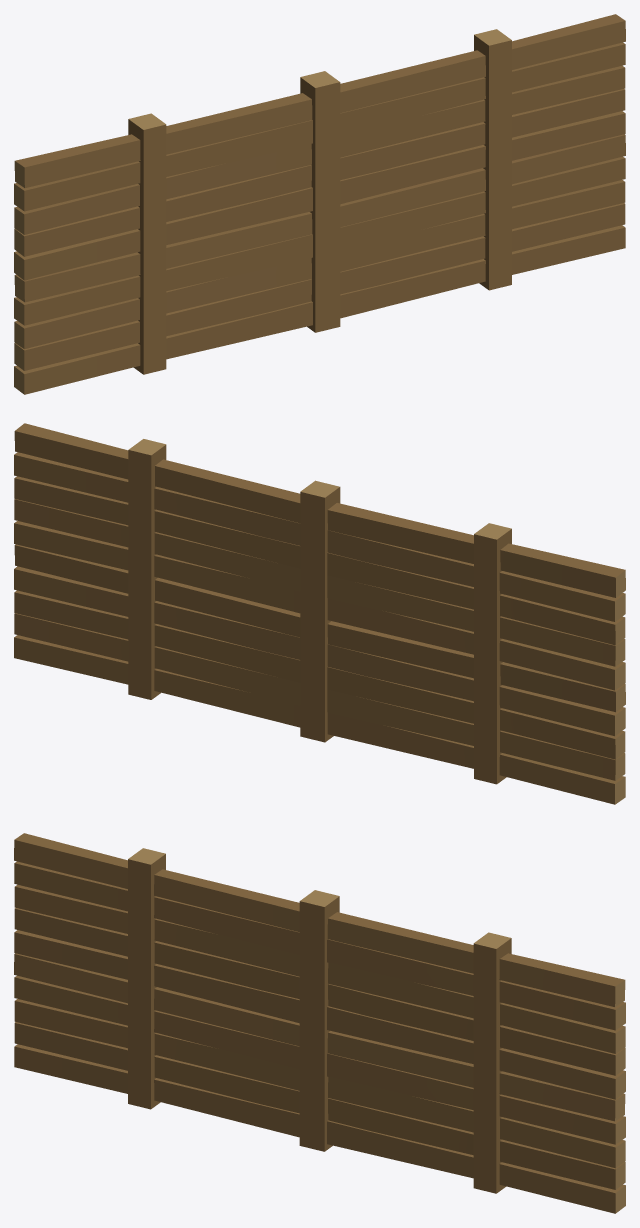
Rendered from Wooden Wall.glb.
3 views of the same model, one above another, from view 1: azimuth 30°, elevation 25°; view 2: azimuth 150°, elevation 25°; view 3: azimuth 330°, elevation 25° (orthographic).
Parts seen in each view (by area): view 1: Wooden Wall; view 2: Wooden Wall; view 3: Wooden Wall.
Part boxes in pixels (x1,y1,x2,y2): Wooden Wall: (14, 14, 625, 394); Wooden Wall: (14, 423, 625, 804); Wooden Wall: (14, 833, 625, 1213).
Bounding box in the file's own units: 1.35 × 0.526 × 0.0589.
